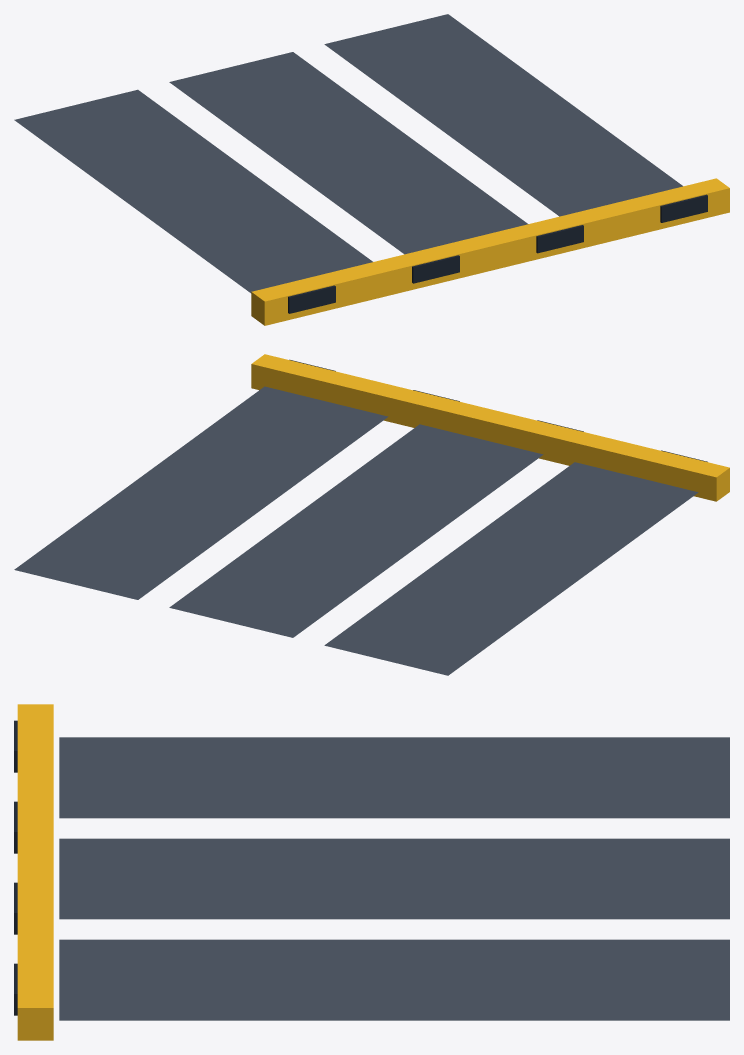
The model's file is yard-dock-plate-body-authored-atlas.glb.
The picture shows the model from 3 angles, top to bottom: view 1: azimuth 30°, elevation 25°; view 2: azimuth 150°, elevation 25°; view 3: azimuth 270°, elevation 25°; orthographic projection. The views are drawn at different scales.
Parts seen in each view (by area): view 1: Authored surface.032; view 2: Authored surface.032; view 3: Authored surface.032.
Boxes of the visible parts, bbox=[...] form: Authored surface.032: bbox=[14, 14, 729, 325]; Authored surface.032: bbox=[14, 354, 729, 675]; Authored surface.032: bbox=[14, 704, 729, 1040].
Bounding box in the file's own units: 3 × 0.15 × 2.99.
1 material, 1 textured.
